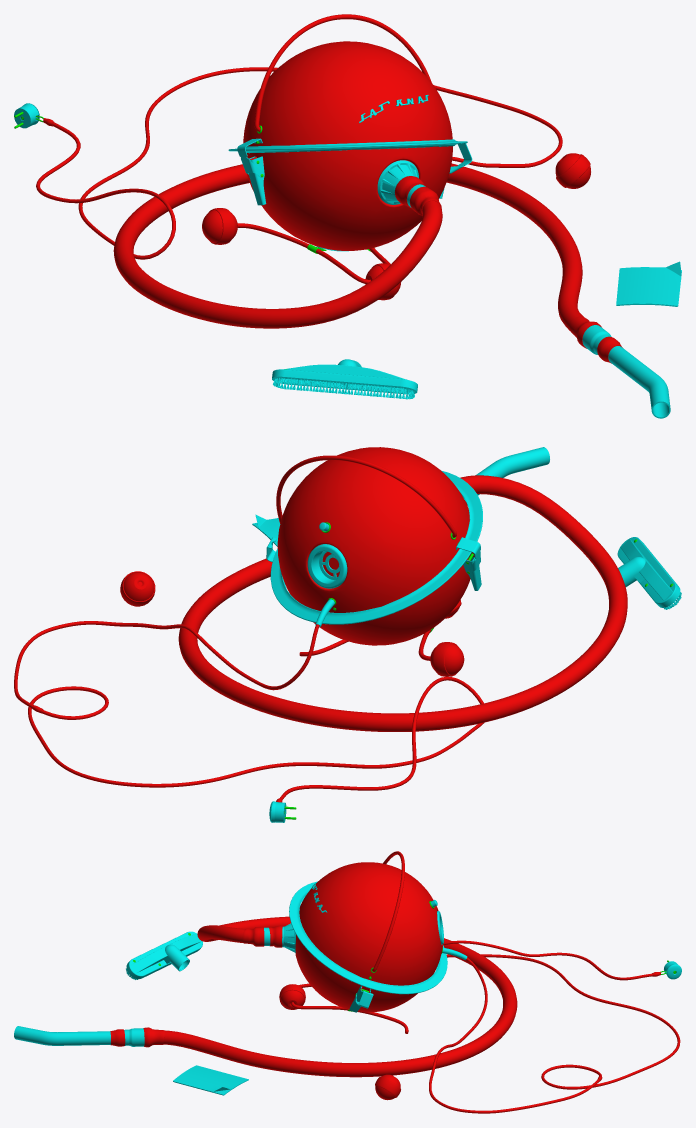
The model's file is SM_Vacuum_Cleaner_01.fbx.
3 views of the same model, one above another, from view 1: azimuth 30°, elevation 25°; view 2: azimuth 150°, elevation 25°; view 3: azimuth 270°, elevation 25° (orthographic). The views are drawn at different scales.
Parts seen in each view (by area): view 1: SM_Vacuum_Cleaner_01_LOD0; view 2: SM_Vacuum_Cleaner_01_LOD0; view 3: SM_Vacuum_Cleaner_01_LOD0.
Part boxes in pixels (box(x1,y1,x2,y2)): SM_Vacuum_Cleaner_01_LOD0: box(14, 14, 681, 418); SM_Vacuum_Cleaner_01_LOD0: box(14, 447, 681, 822); SM_Vacuum_Cleaner_01_LOD0: box(14, 851, 681, 1113).
Size of what is drawn, in the model's own units: 91.96 by 38.85 by 149.
